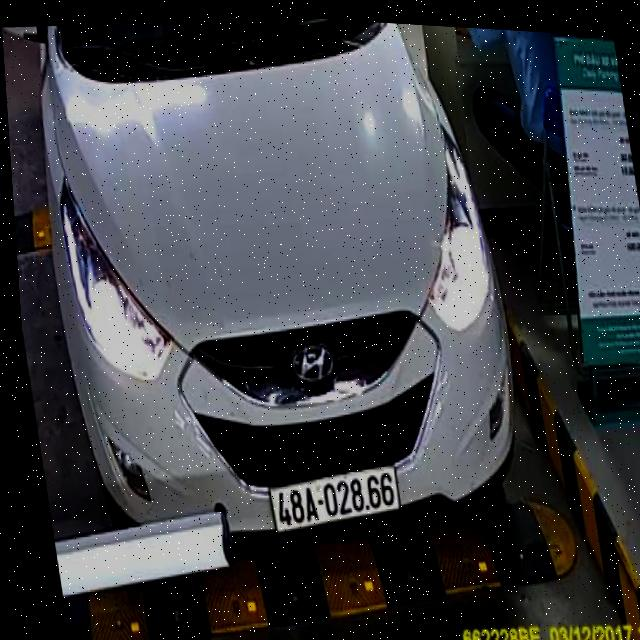car: (0, 0, 550, 582)
plate: (260, 458, 407, 542)
